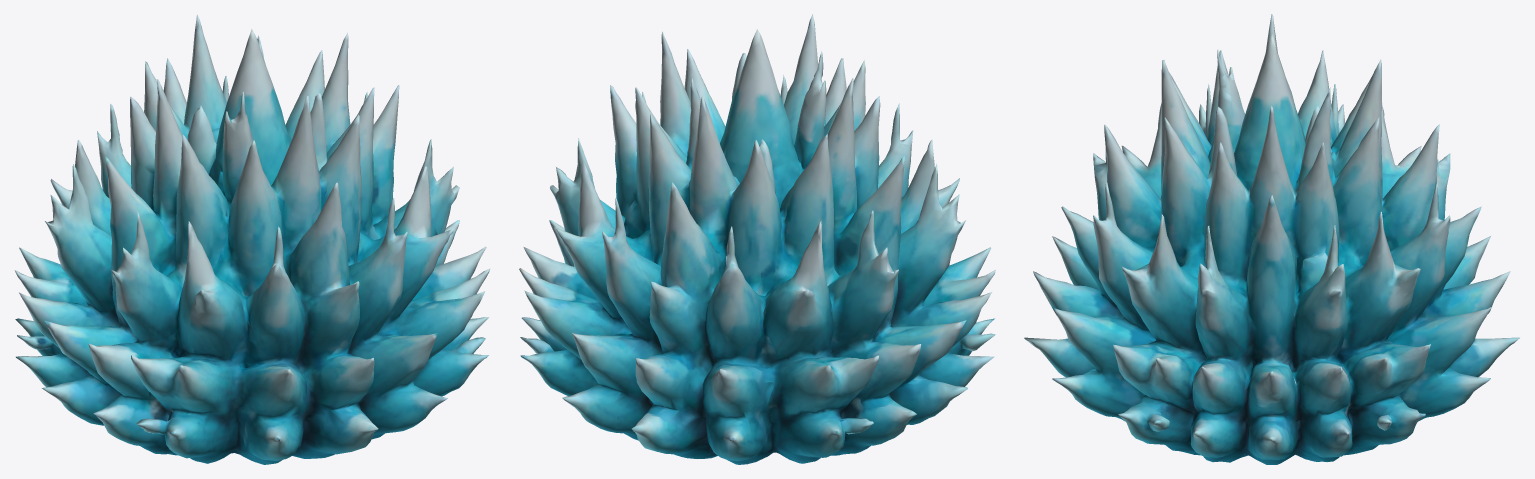
Rendered from ice_spike.glb.
3 renders of one model, left to right at view 1: azimuth 30°, elevation 25°; view 2: azimuth 150°, elevation 25°; view 3: azimuth 270°, elevation 25°, orthographic.
Visible parts, largest first — view 1: model; view 2: model; view 3: model.
Part boxes in pixels (left/top/right/bottom): model: left=14, top=14, right=490, bottom=464; model: left=519, top=14, right=995, bottom=464; model: left=1024, top=14, right=1519, bottom=464.
Size of the model in its own units: 1.84 by 1.74 by 1.91.
Materials: 1 (1 with a texture image).
